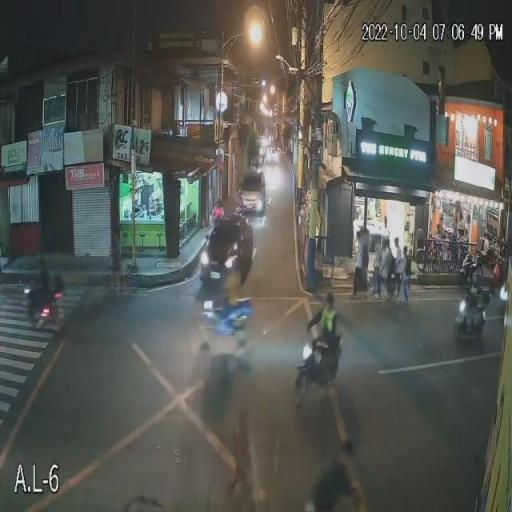helmet: (469, 274, 481, 288), (225, 250, 237, 264), (40, 266, 52, 280), (322, 294, 334, 307)
motorcycle: (294, 293, 344, 399), (198, 260, 256, 338), (24, 262, 66, 334), (452, 270, 490, 344), (460, 252, 486, 284)
rider: (304, 292, 342, 378), (30, 262, 62, 321), (463, 270, 491, 330), (218, 252, 244, 316), (211, 200, 226, 225)
